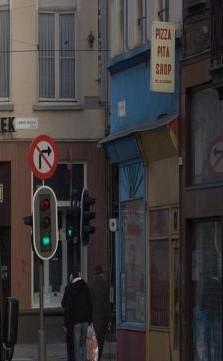green_light: (32, 186, 58, 260)
